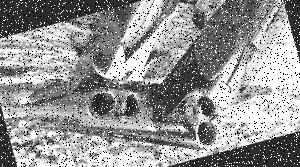shotgun: (34, 0, 289, 150), (1, 0, 182, 119)
